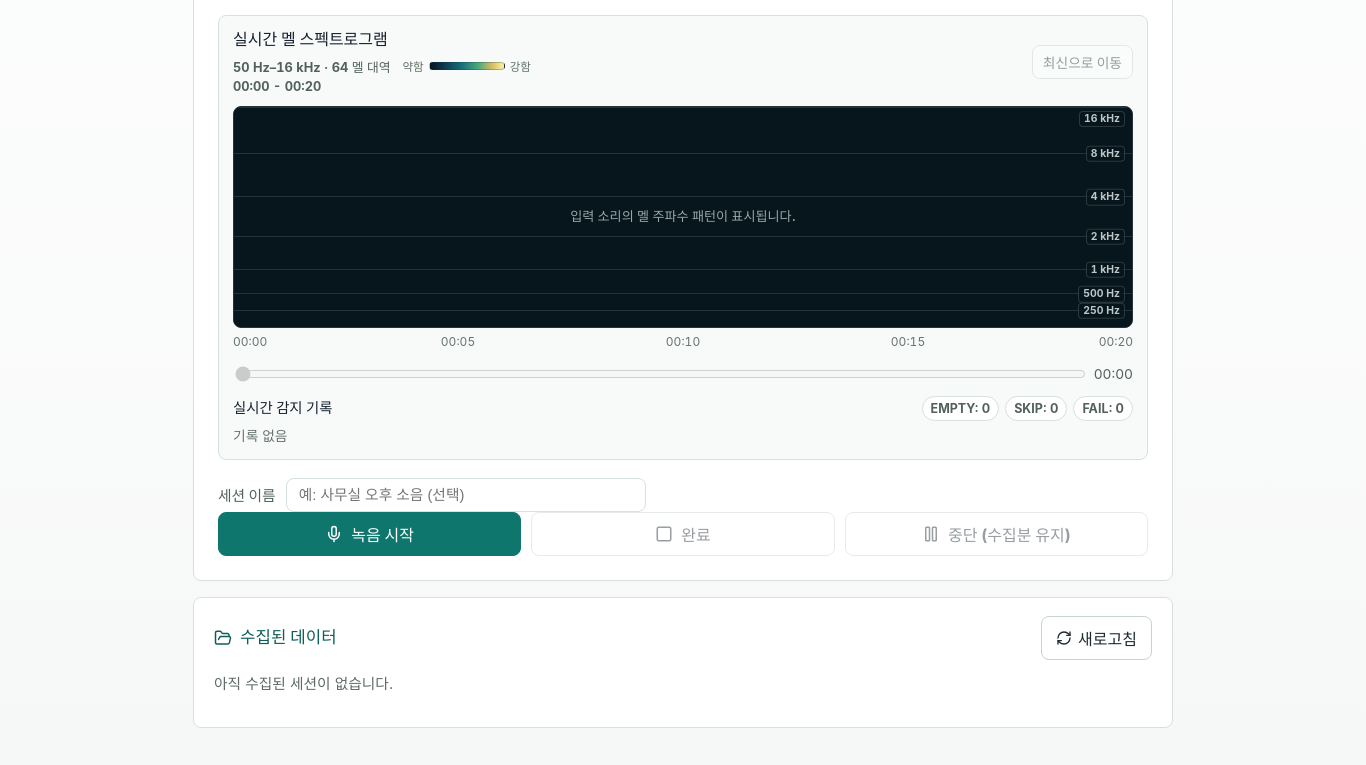
Scenario: App › offers an explicit resume action when the audio context is suspended
(page scrolled)
Click the button "녹음 시작" at (370, 534), box x1=218 y1=512 x2=521 y2=556
(page scrolled)
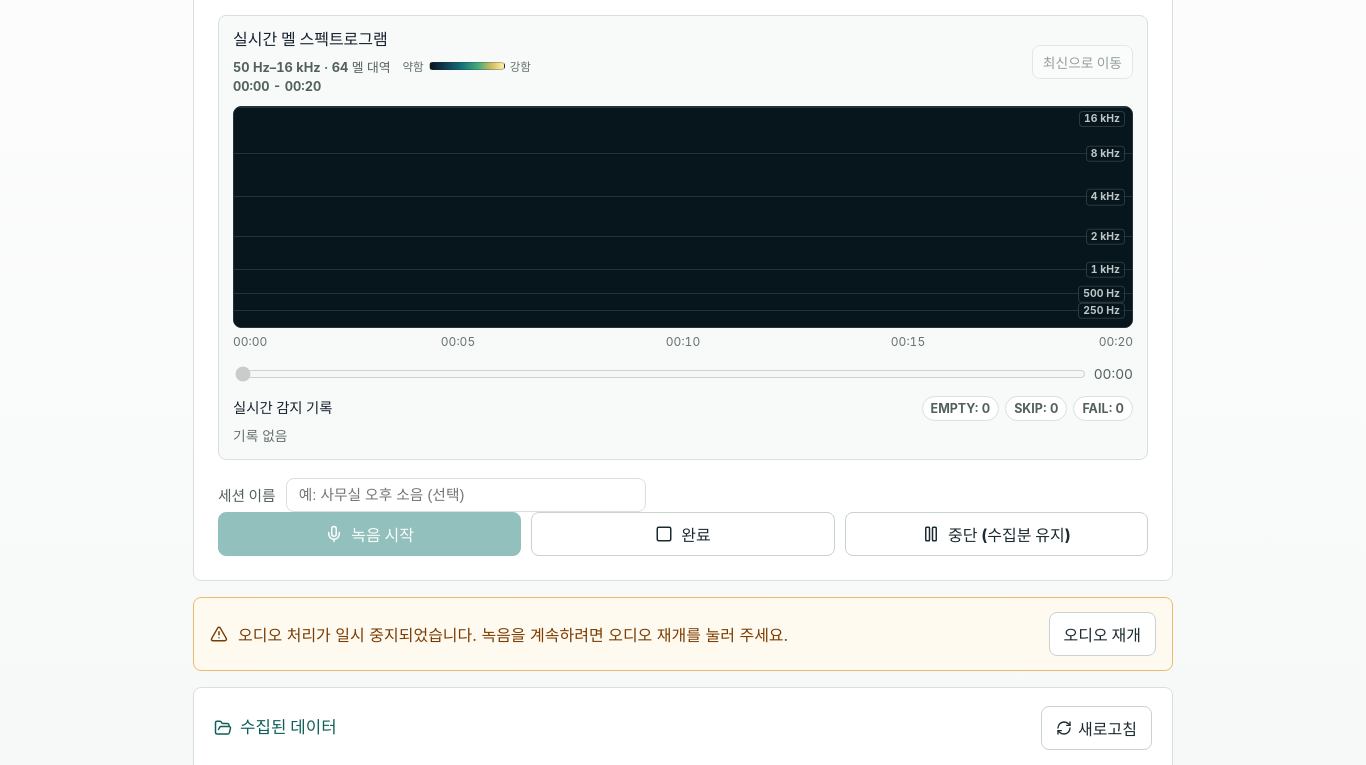
Expected: the text "오디오 처리가 일시 중지되었습니다. 녹음을 계속하려면 오디오 재개를 눌러 주세요." is shown, x1=238 y1=625 x2=788 y2=645
Click the button "오디오 재개" at (1102, 634), box x1=1049 y1=612 x2=1156 y2=656
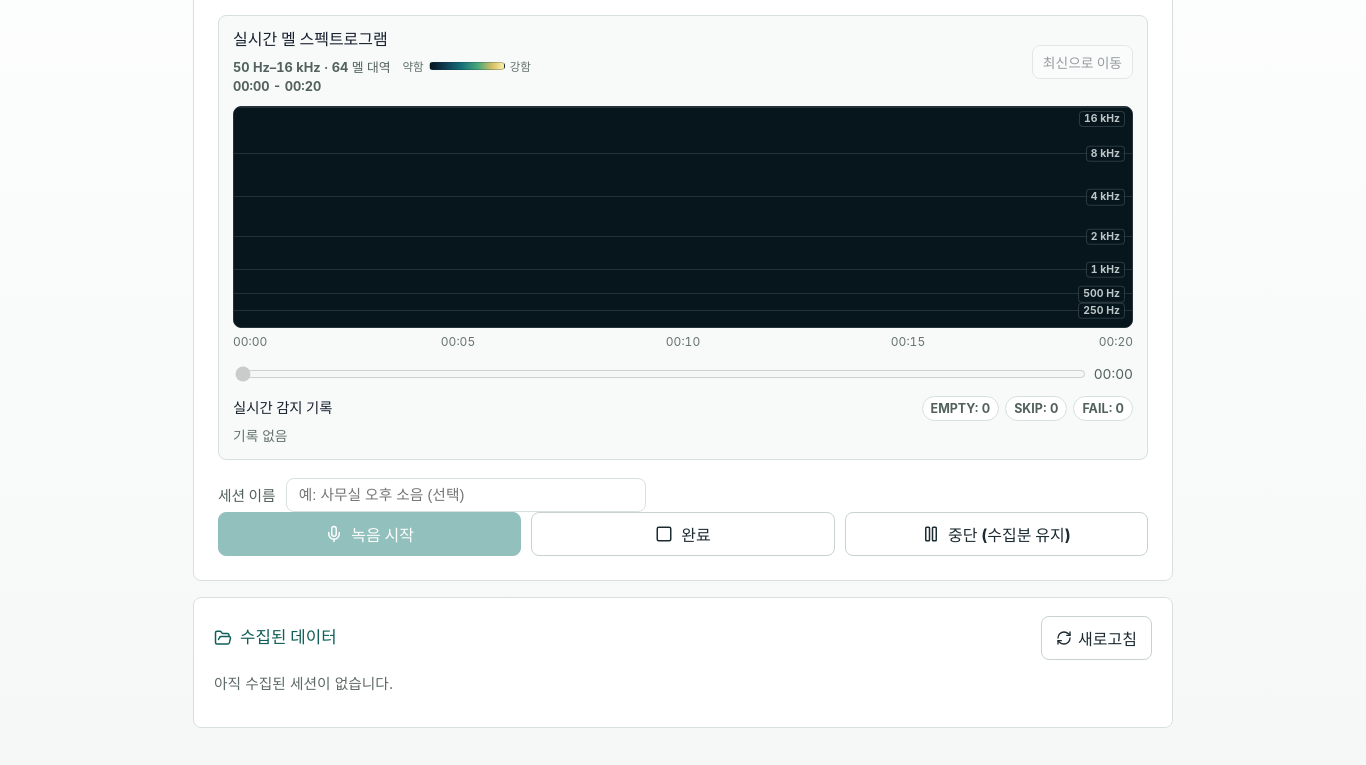
Expected: the text "오디오 처리가 일시 중지되었습니다" is gone
